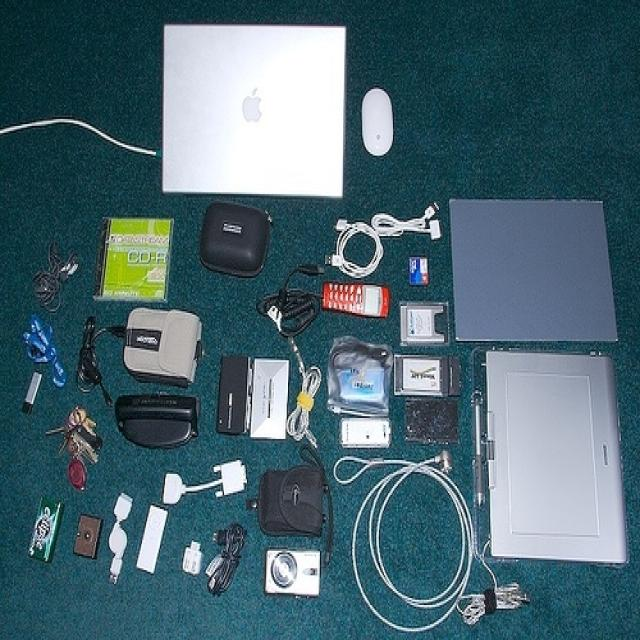Cable: (333, 441, 501, 640), (0, 94, 159, 170), (333, 202, 453, 284)
E-waste: (9, 205, 317, 582), (162, 7, 404, 180)
